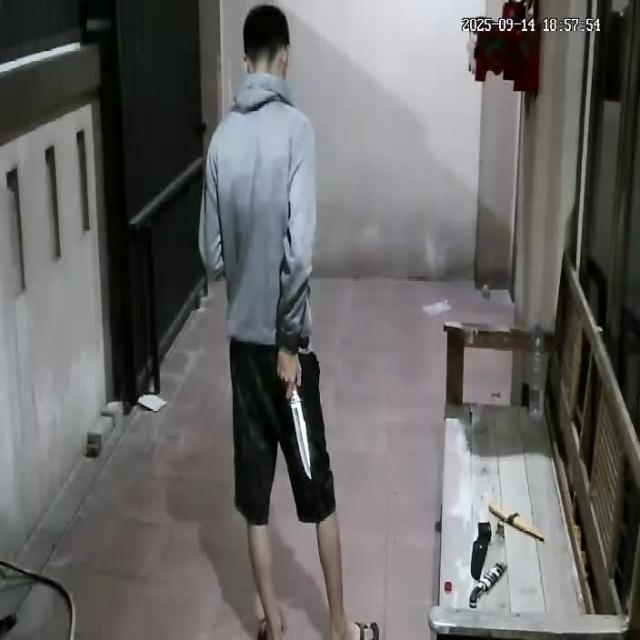senjata_tajam: (289, 392, 314, 484)
